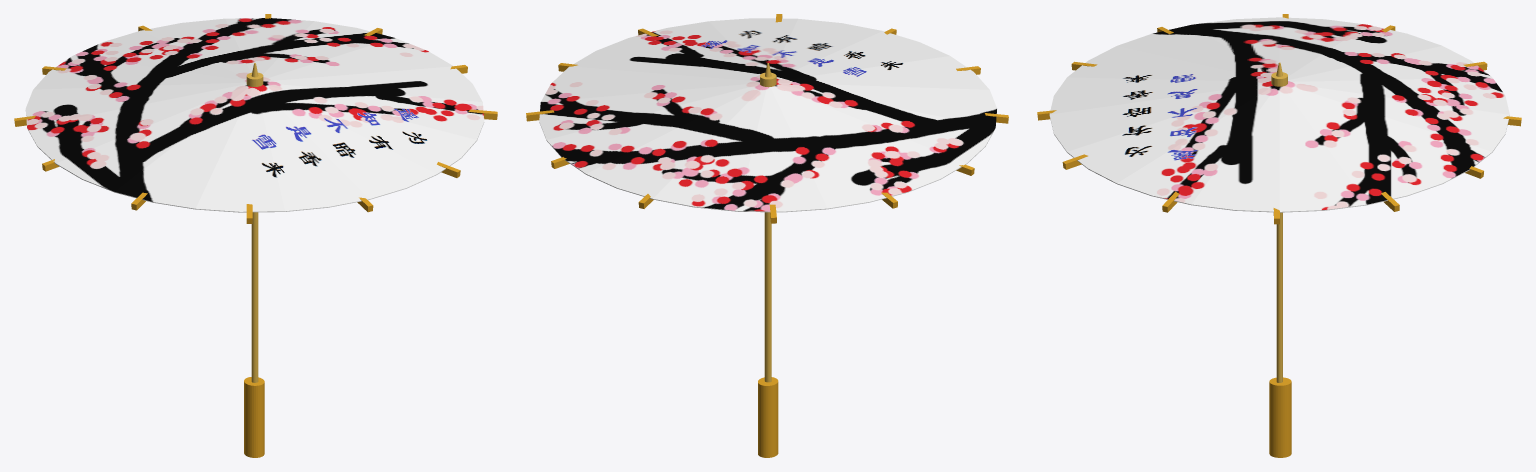
The model's file is umbre.glb.
3 renders of one model, left to right at view 1: azimuth 30°, elevation 25°; view 2: azimuth 150°, elevation 25°; view 3: azimuth 270°, elevation 25°, orthographic.
Parts seen in each view (by area): view 1: 柱体, 柱体.003, 柱体.002; view 2: 柱体, 柱体.003, 柱体.002; view 3: 柱体, 柱体.003, 柱体.002.
Boxes of the visible parts, x1,y1,x2,y2 form: 柱体: [25, 18, 484, 212]; 柱体.003: [244, 377, 264, 457]; 柱体.002: [251, 212, 258, 382]; 柱体: [539, 18, 996, 212]; 柱体.003: [758, 377, 778, 457]; 柱体.002: [764, 212, 771, 382]; 柱体: [1049, 17, 1509, 212]; 柱体.003: [1269, 377, 1291, 457]; 柱体.002: [1276, 212, 1282, 382].
Bounding box in the file's own units: 2.1 × 1.87 × 2.1.
3 materials, 1 textured.
